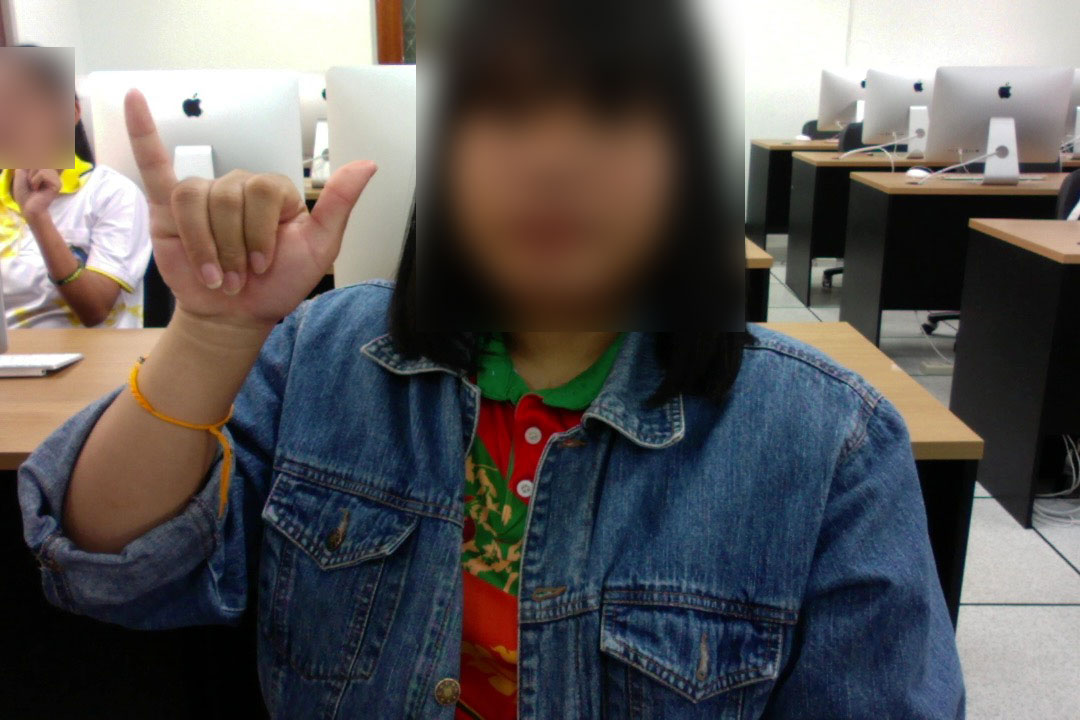yor: (113, 80, 382, 362)
